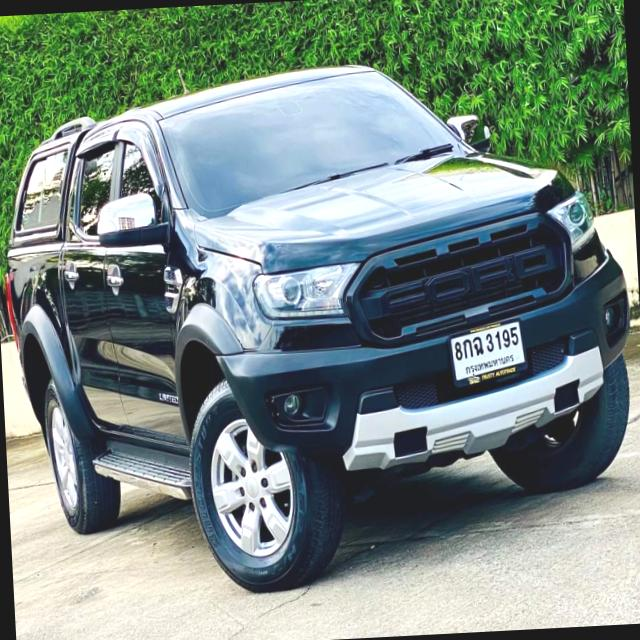license_plate: (441, 315, 533, 392)
